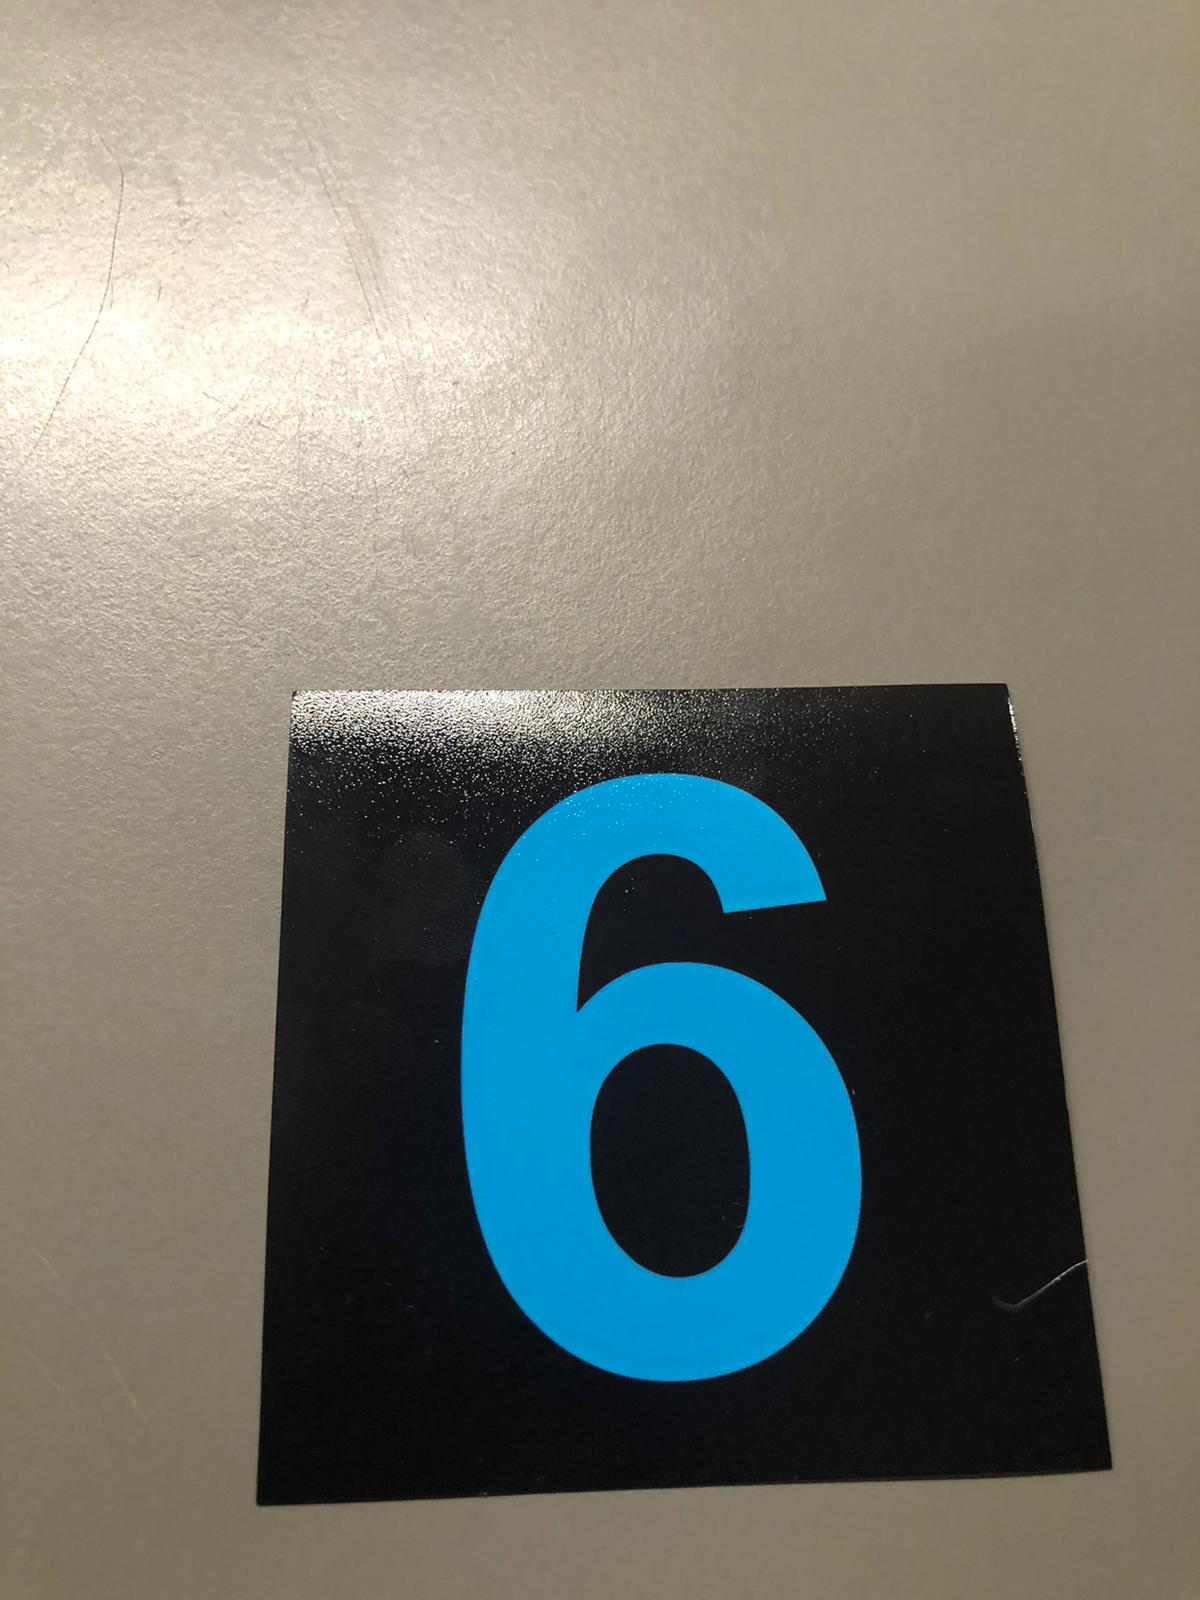Number 6: (300, 708, 1037, 1456)
